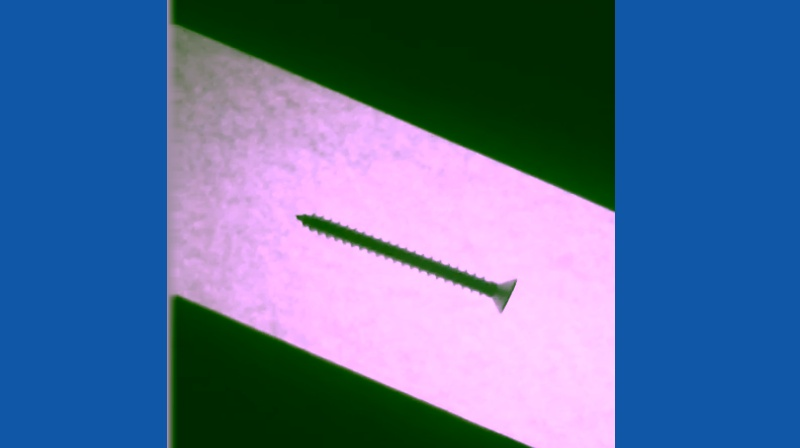S002: (293, 210, 520, 317)
